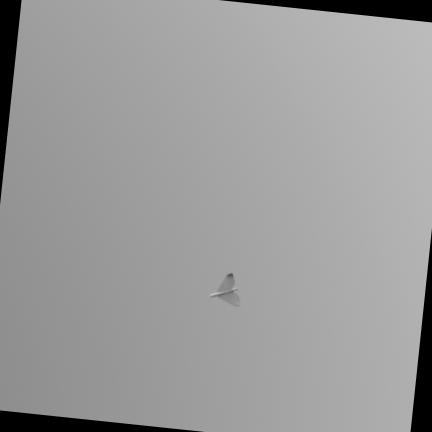Shahed: (210, 273, 239, 306)
